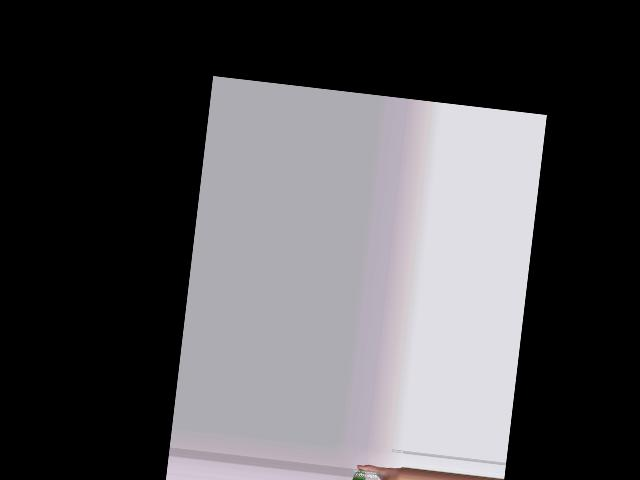cucumber: (346, 468, 367, 480)
